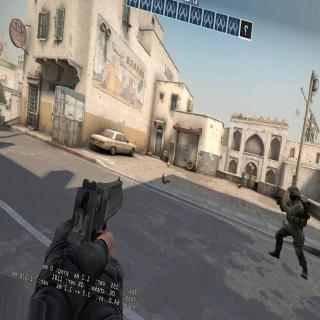CT-Body: (273, 174, 315, 258)
CT-Head: (286, 183, 302, 202)
